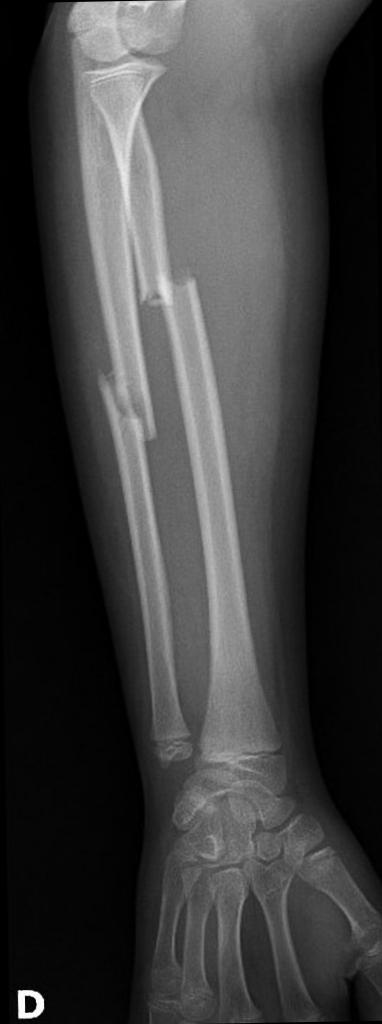messed_up_angle: (92, 364, 158, 444), (140, 268, 198, 308)
